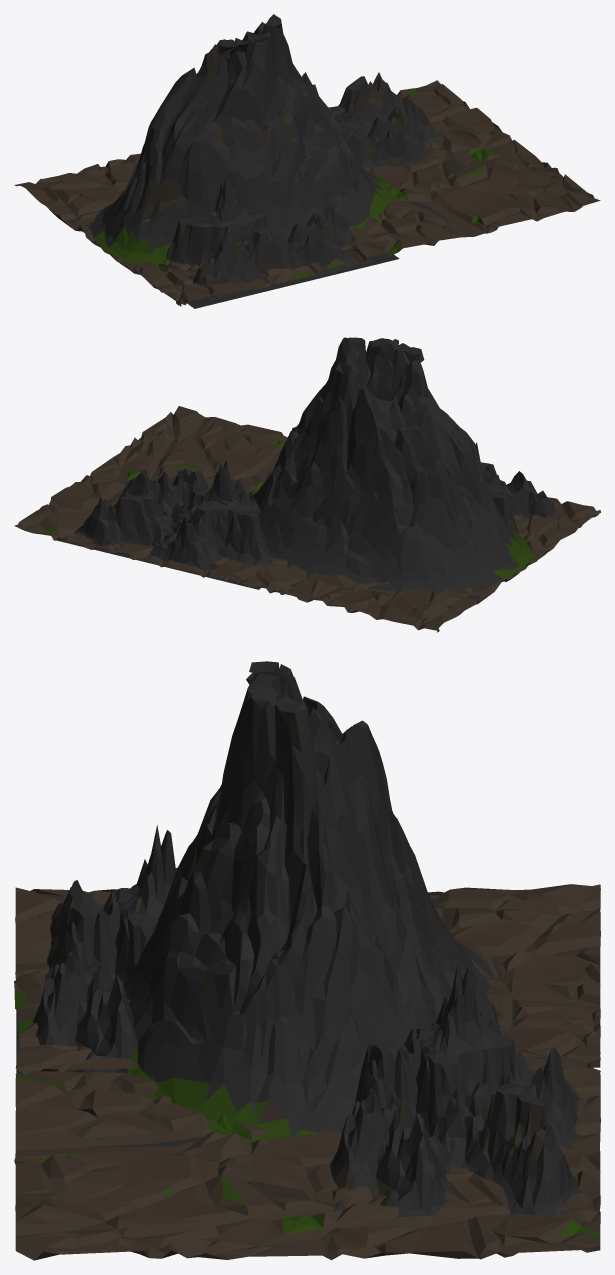
The model's file is BookPage_2.fbx.
3 views of the same model, one above another, from view 1: azimuth 30°, elevation 25°; view 2: azimuth 150°, elevation 25°; view 3: azimuth 270°, elevation 25° (orthographic). The views are drawn at different scales.
Visible parts, largest first — view 1: Mountains, Ground; view 2: Mountains, Ground; view 3: Mountains, Ground.
Boxes of the visible parts, bbox=[...] form: Mountains: bbox=[66, 14, 455, 308]; Ground: bbox=[14, 80, 600, 306]; Mountains: bbox=[52, 337, 557, 602]; Ground: bbox=[14, 406, 600, 632]; Mountains: bbox=[16, 661, 593, 1216]; Ground: bbox=[14, 884, 600, 1260].
Bounding box in the file's own units: 170 × 75.17 × 114.
